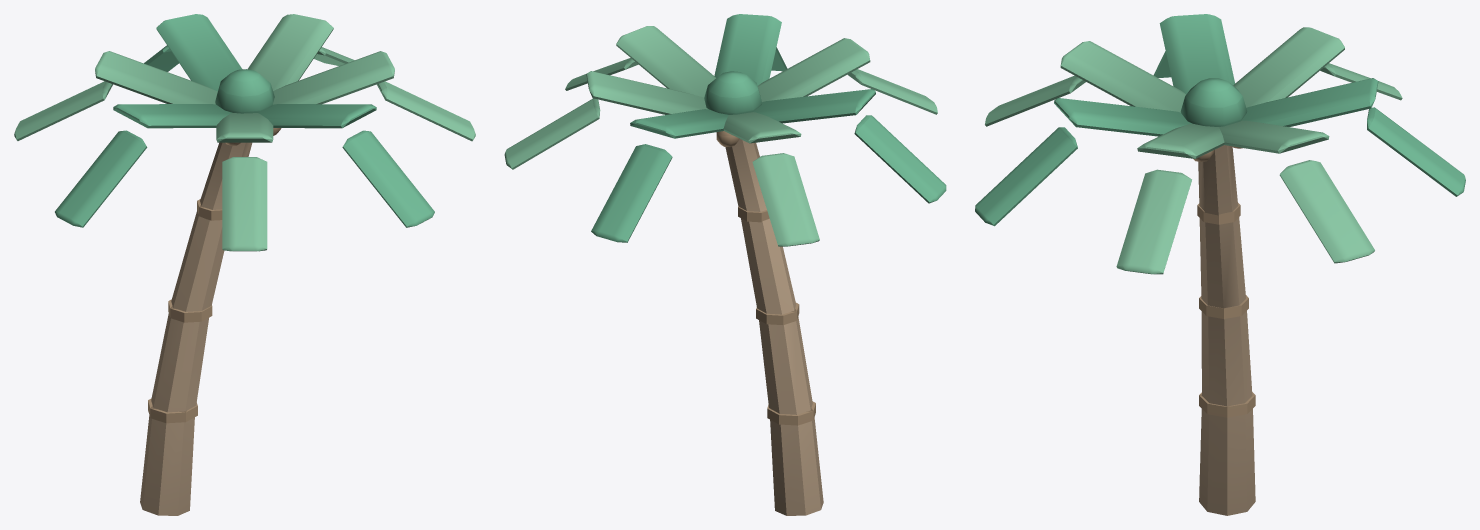
File: palm.glb
3 renders of one model, left to right at view 1: azimuth 30°, elevation 25°; view 2: azimuth 150°, elevation 25°; view 3: azimuth 270°, elevation 25°, orthographic. The views are drawn at different scales.
Parts seen in each view (by area): view 1: palm; view 2: palm; view 3: palm.
Boxes of the visible parts, box(x1,y1,x2,y2) form: palm: box(14, 14, 475, 515); palm: box(504, 14, 946, 515); palm: box(975, 14, 1465, 515).
Bounding box in the file's own units: 3 × 3.07 × 2.95.
